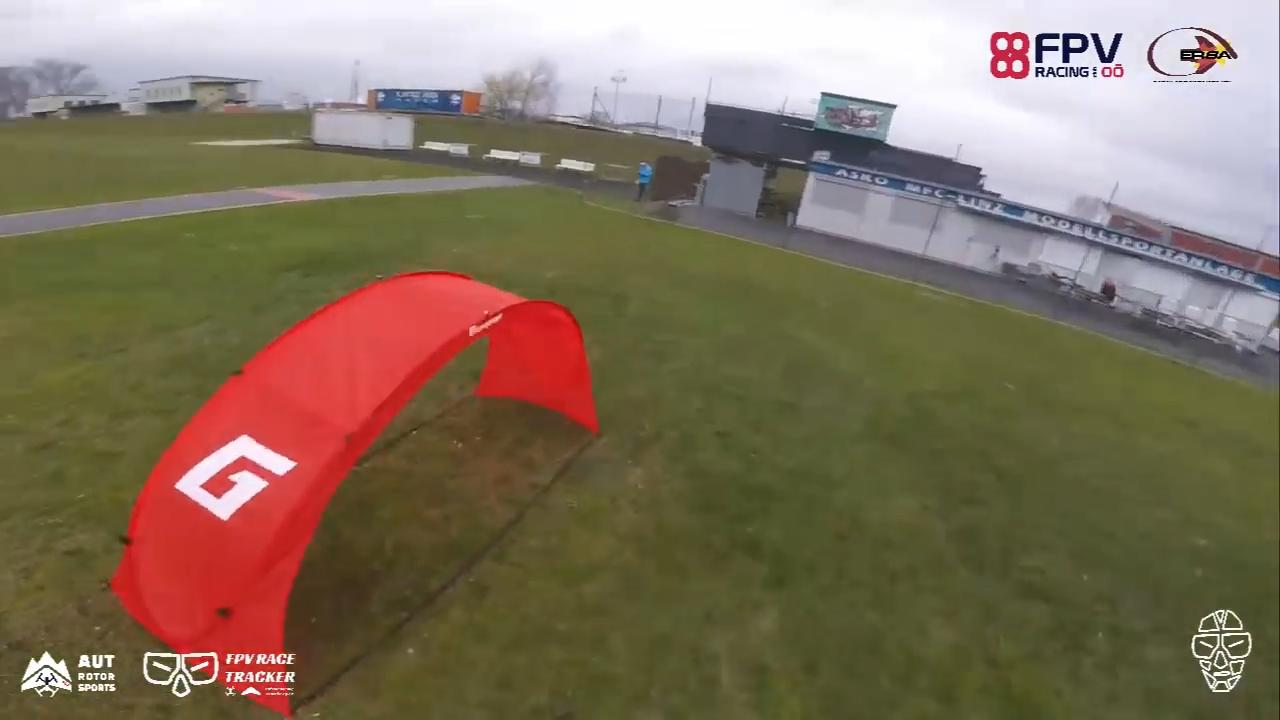gate: (116, 265, 605, 709)
